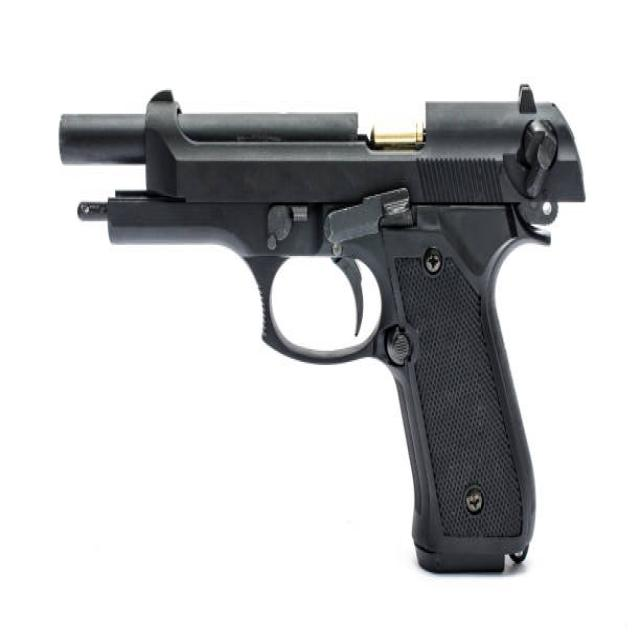pistol: (54, 79, 589, 581)
